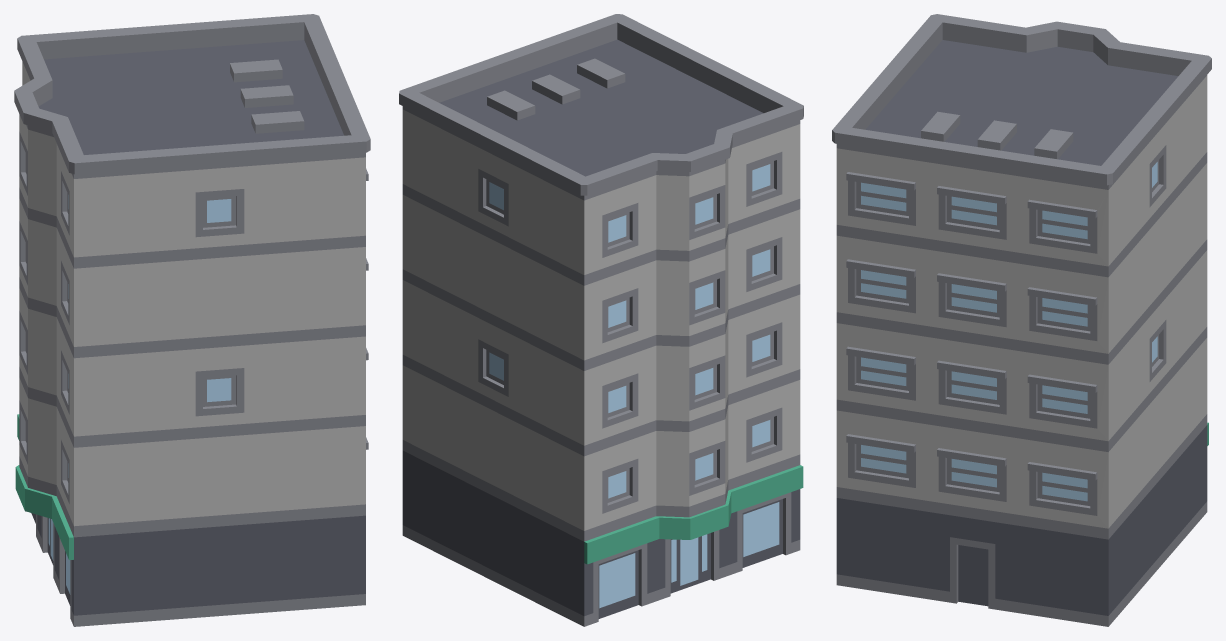
The model's file is large_buildingE.obj.
The picture shows the model from 3 angles, left to right: view 1: azimuth 30°, elevation 25°; view 2: azimuth 150°, elevation 25°; view 3: azimuth 270°, elevation 25°; orthographic projection. The views are drawn at different scales.
Visible parts, largest first — view 1: large_buildingE.002; view 2: large_buildingE.002; view 3: large_buildingE.002.
Boxes of the visible parts, x1,y1,x2,y2 form: large_buildingE.002: (14,14,370,626); large_buildingE.002: (399,14,803,626); large_buildingE.002: (832,14,1211,626).
Bounding box in the file's own units: 23.2 × 30.63 × 23.2.
